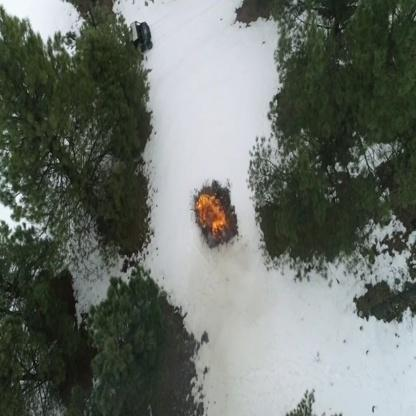Fire: (198, 194, 228, 239)
